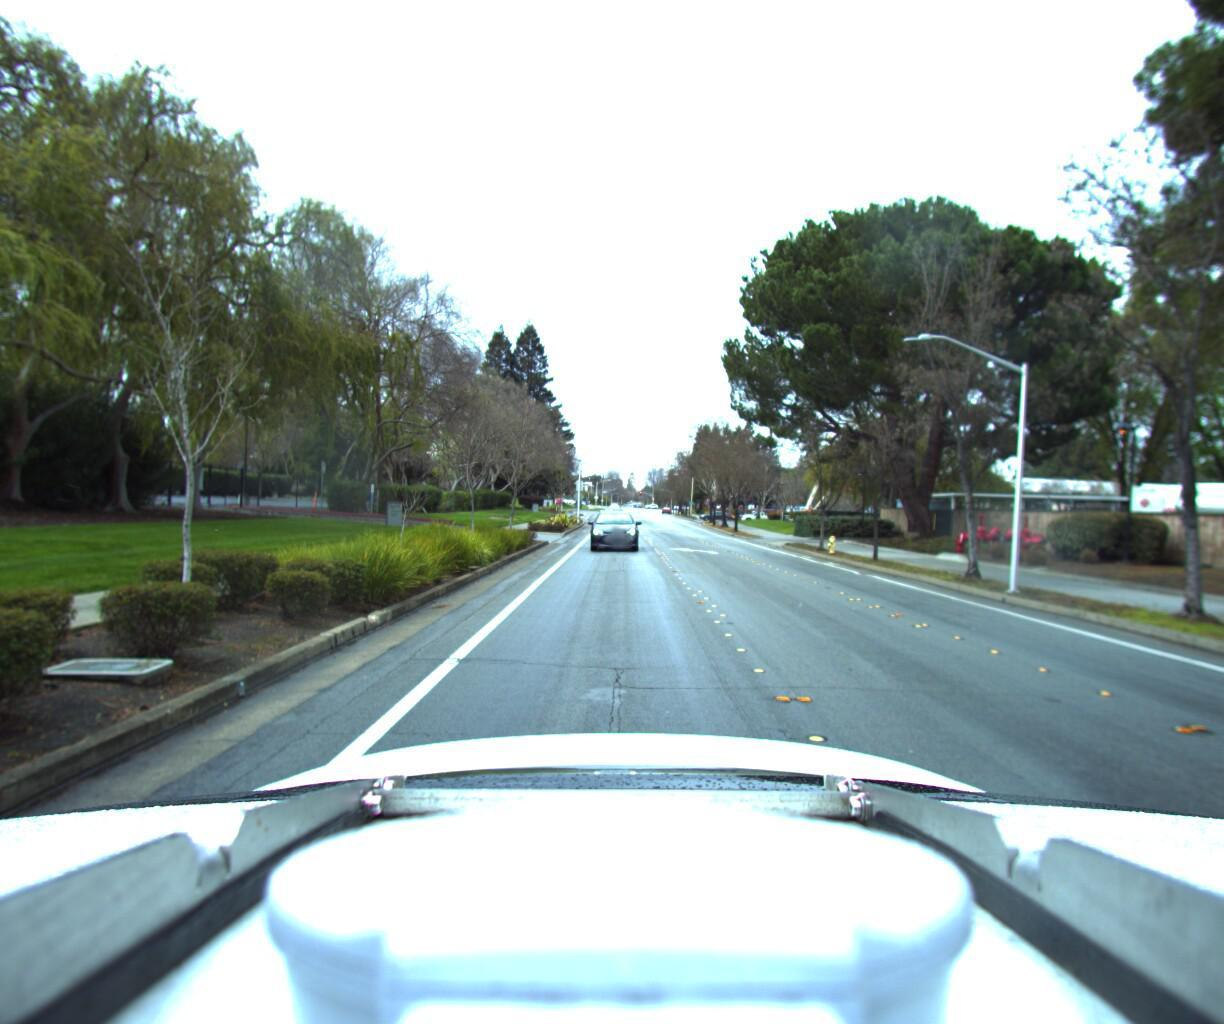car: (585, 502, 640, 551)
